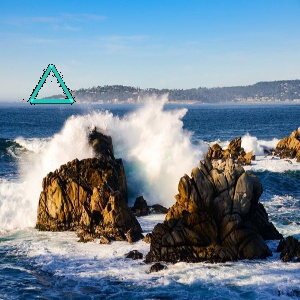triangle: (22, 58, 78, 110)
